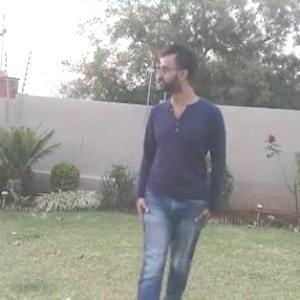follow: (116, 17, 235, 299)
